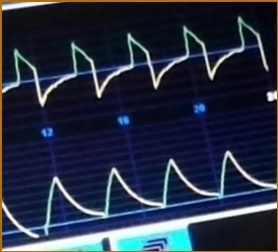Normal Flow: (4, 14, 268, 109)
Normal Volume: (5, 148, 276, 239)
